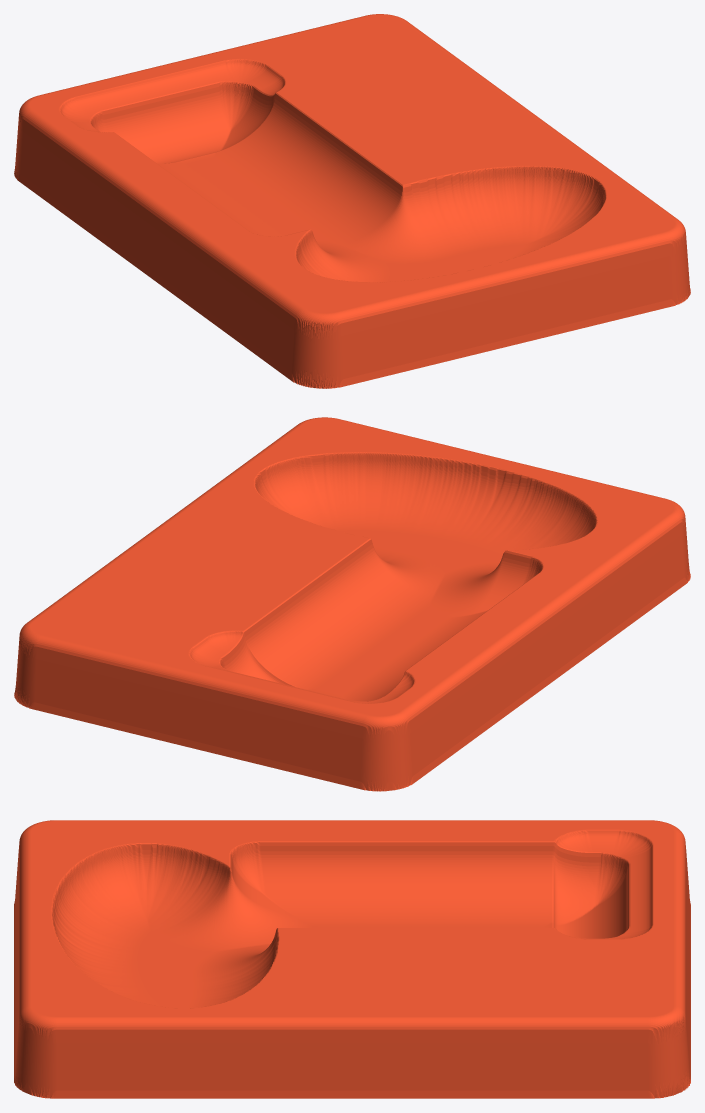
File: mold.glb
3 views of the same model, one above another, from view 1: azimuth 30°, elevation 25°; view 2: azimuth 150°, elevation 25°; view 3: azimuth 270°, elevation 25° (orthographic). The views are drawn at different scales.
Parts seen in each view (by area): view 1: geometry_0; view 2: geometry_0; view 3: geometry_0.
Part boxes in pixels (<box>): geometry_0: <box>14,14,690,388</box>; geometry_0: <box>14,417,690,791</box>; geometry_0: <box>14,820,690,1098</box>.
Size of the model in its own units: 0.1053 by 0.0175 by 0.1435.
